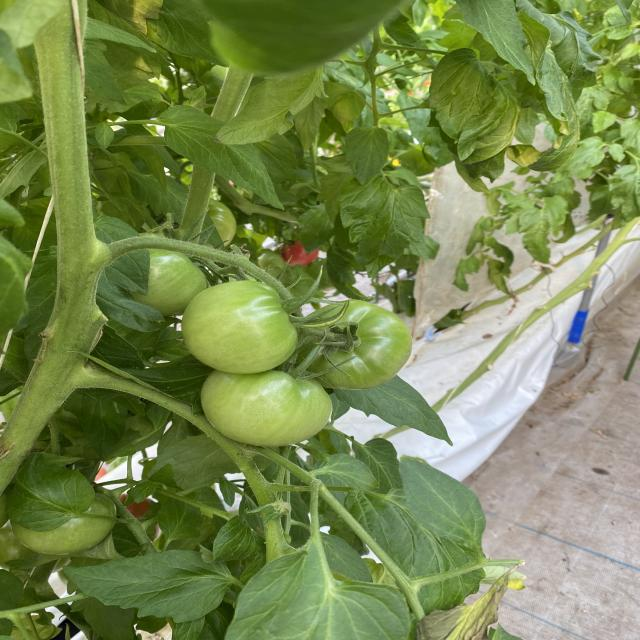yesil: (97, 208, 563, 497)
